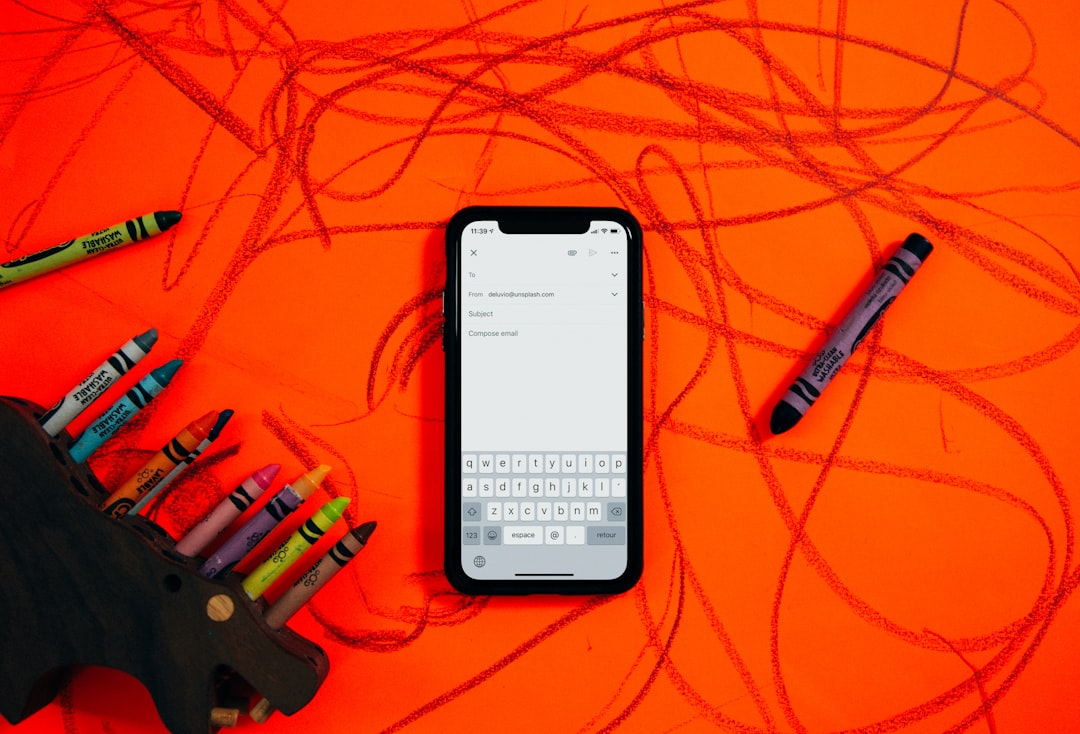phone: (439, 201, 648, 596)
